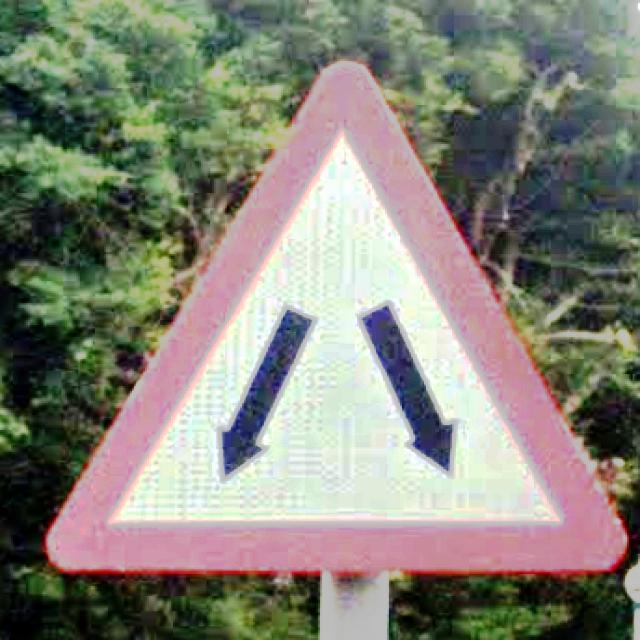diverge: (47, 63, 629, 576)
